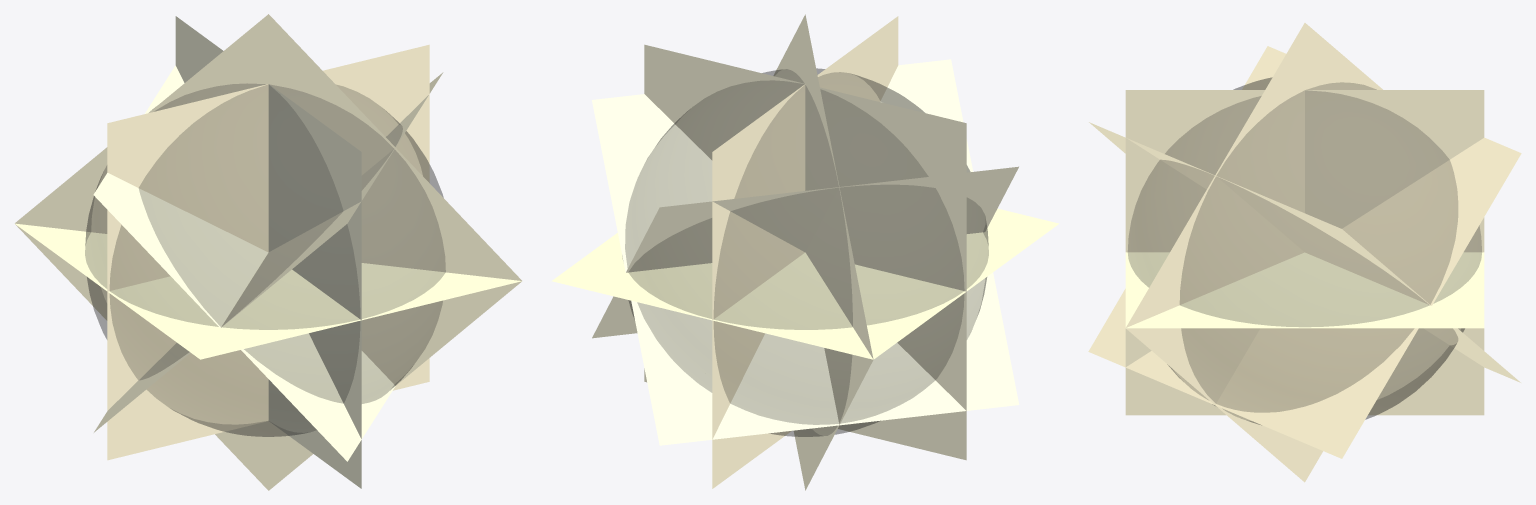
3 renders of one model, left to right at view 1: azimuth 30°, elevation 25°; view 2: azimuth 150°, elevation 25°; view 3: azimuth 270°, elevation 25°, orthographic. The views are drawn at different scales.
Parts seen in each view (by area): view 1: Plane_1, Object_4; view 2: Plane_1, Object_4; view 3: Plane_1, Object_4.
Boxes of the visible parts, bbox=[...] form: Plane_1: bbox=[14, 14, 522, 490]; Object_4: bbox=[85, 84, 445, 436]; Plane_1: bbox=[551, 14, 1058, 490]; Object_4: bbox=[625, 68, 988, 436]; Plane_1: bbox=[1088, 23, 1521, 482]; Object_4: bbox=[1128, 77, 1481, 424].
Bounding box in the file's own units: 2.41 × 2.83 × 2.41.
2 materials, 1 textured.
